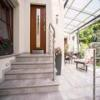stairs: (0, 56, 57, 95)
